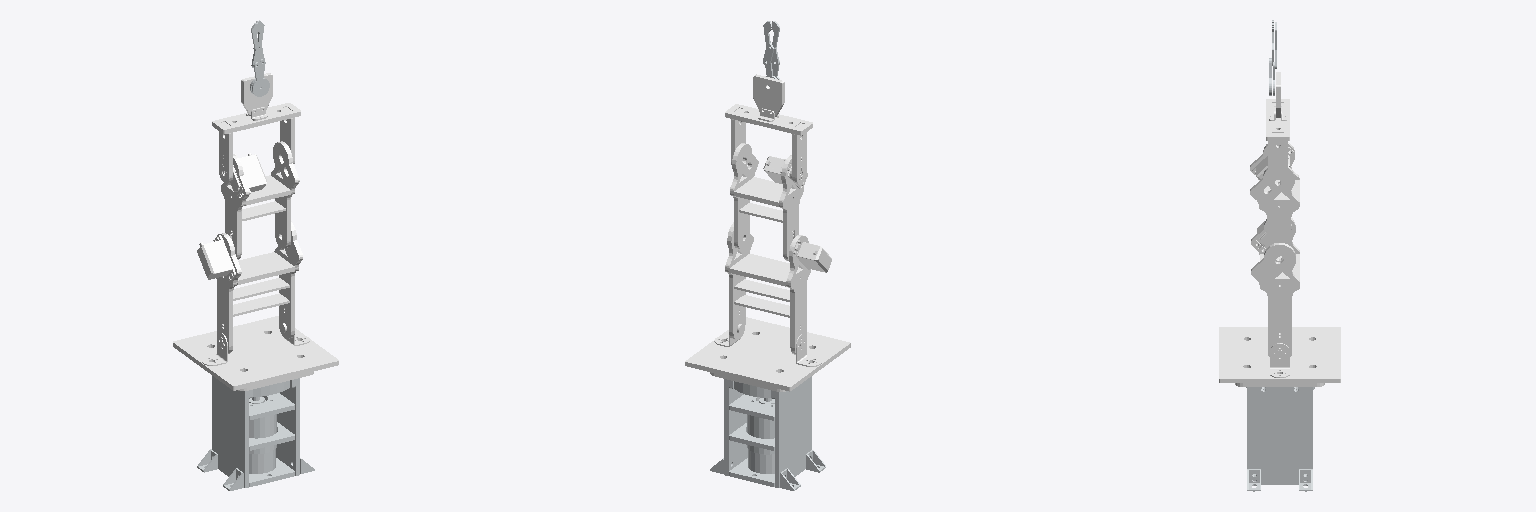
URDF robot description (robot_arm):
<?xml version="1.0" encoding="utf-8"?>
<!-- This URDF was automatically created by SolidWorks to URDF Exporter! Originally created by [author] ([email redacted]) 
     Commit Version: 1.5.1-0-g916b5db  Build Version: 1.5.7152.31018
     For more information, please see http://wiki.ros.org/sw_urdf_exporter -->
<robot
  name="robot_arm">
  <link name="world"/>
  <joint name="base_joint" type="fixed">
    <parent link="world"/>
    <child link="base_link"/>
    <origin rpy="0 0 0" xyz="0.0 0.0 0.0"/>
  </joint> 
  <link
    name="base_link">
    <inertial>
      <origin
        xyz="5.0209E-08 0.00012636 0.069544"
        rpy="0 0 0" />
      <mass
        value="1.3174" />
      <inertia
        ixx="0.0030694"
        ixy="-5.1941E-10"
        ixz="-4.6994E-09"
        iyy="0.0032541"
        iyz="-9.8315E-06"
        izz="0.001334" />
    </inertial>
    <visual>
      <origin
        xyz="0 0 0"
        rpy="0 0 0" />
      <geometry>
        <mesh
          filename="package://robot_arm/meshes/base_link.STL" />
      </geometry>
      <material
        name="">
        <color
          rgba="0.89804 0.91765 0.92941 1" />
      </material>
    </visual>
    <collision>
      <origin
        xyz="0 0 0"
        rpy="0 0 0" />
      <geometry>
        <mesh
          filename="package://robot_arm/meshes/base_link.STL" />
      </geometry>
      <surface>
        <contact>
          <ode>
            <min_depth>0.001</min_depth>
          </ode>
        </contact>
        <friction>
          <ode>
            <mu>10000</mu>
            <mu2>10000</mu2>
          </ode>
        </friction>
      </surface>
    </collision>
  </link>
  <link
    name="link1">
    <inertial>
      <origin
        xyz="-4.3764E-06 -6.9417E-14 0.018224"
        rpy="0 0 0" />
      <mass
        value="0.31325" />
      <inertia
        ixx="0.00048442"
        ixy="1.8327E-18"
        ixz="-1.378E-08"
        iyy="0.00049375"
        iyz="1.0078E-18"
        izz="0.00095151" />
    </inertial>
    <visual>
      <origin
        xyz="0 0 0"
        rpy="0 0 0" />
      <geometry>
        <mesh
          filename="package://robot_arm/meshes/link1.STL" />
      </geometry>
      <material
        name="">
        <color
          rgba="1 1 1 1" />
      </material>
    </visual>
    <collision>
      <origin
        xyz="0 0 0"
        rpy="0 0 0" />
      <geometry>
        <mesh
          filename="package://robot_arm/meshes/link1.STL" />
      </geometry>
      <surface>
        <contact>
          <ode>
            <min_depth>0.001</min_depth>
          </ode>
        </contact>
        <friction>
          <ode>
            <mu>10000</mu>
            <mu2>10000</mu2>
          </ode>
        </friction>
      </surface>
    </collision>
  </link>
  <joint
    name="joint_1"
    type="revolute">
    <origin
      xyz="0 0 0.134"
      rpy="0 0 0" />
    <parent
      link="base_link" />
    <child
      link="link1" />
    <axis
      xyz="0 0 1" />
    <limit
      lower="0"
      upper="3.14"
      effort="200"
      velocity="3" />
  </joint>
  <link
    name="link2">
    <inertial>
      <origin
        xyz="-0.0023684 0.082679 -0.012795"
        rpy="0 0 0" />
      <mass
        value="0.15073" />
      <inertia
        ixx="0.00047271"
        ixy="9.7164E-06"
        ixz="-9.0217E-06"
        iyy="0.0002799"
        iyz="6.7422E-05"
        izz="0.00023406" />
    </inertial>
    <visual>
      <origin
        xyz="0 0 0"
        rpy="0 0 0" />
      <geometry>
        <mesh
          filename="package://robot_arm/meshes/link2.STL" />
      </geometry>
      <material
        name="">
        <color
          rgba="1 1 1 1" />
      </material>
    </visual>
    <collision>
      <origin
        xyz="0 0 0"
        rpy="0 0 0" />
      <geometry>
        <mesh
          filename="package://robot_arm/meshes/link2.STL" />
      </geometry>
      <surface>
        <contact>
          <ode>
            <min_depth>0.001</min_depth>
          </ode>
        </contact>
        <friction>
          <ode>
            <mu>10000</mu>
            <mu2>10000</mu2>
          </ode>
        </friction>
      </surface>
    </collision>
  </link>
  <joint
    name="joint_2"
    type="revolute">
    <origin
      xyz="0 0 0.0485"
      rpy="1.5708 0 1.5708" />
    <parent
      link="link1" />
    <child
      link="link2" />
    <axis
      xyz="0 0 -1" />
    <limit
      lower="-1.57"
      upper="1.57"
      effort="200"
      velocity="3" />
  </joint>
  <link
    name="link3">
    <inertial>
      <origin
        xyz="0.071288 0.0027817 -0.0024319"
        rpy="0 0 0" />
      <mass
        value="0.12674" />
      <inertia
        ixx="0.00012046"
        ixy="-6.9257E-06"
        ixz="1.879E-05"
        iyy="0.00023578"
        iyz="2.8516E-06"
        izz="0.00015143" />
    </inertial>
    <visual>
      <origin
        xyz="0 0 0"
        rpy="0 0 0" />
      <geometry>
        <mesh
          filename="package://robot_arm/meshes/link3.STL" />
      </geometry>
      <material
        name="">
        <color
          rgba="1 1 1 1" />
      </material>
    </visual>
    <collision>
      <origin
        xyz="0 0 0"
        rpy="0 0 0" />
      <geometry>
        <mesh
          filename="package://robot_arm/meshes/link3.STL" />
      </geometry>
      <surface>
        <contact>
          <ode>
            <min_depth>0.001</min_depth>
          </ode>
        </contact>
        <friction>
          <ode>
            <mu>10000</mu>
            <mu2>10000</mu2>
          </ode>
        </friction>
      </surface>
    </collision>
  </link>
  <joint
    name="joint_3"
    type="revolute">
    <origin
      xyz="-0.0010291 0.12402 0"
      rpy="0 0 1.5708" />
    <parent
      link="link2" />
    <child
      link="link3" />
    <axis
      xyz="0 0 1" />
    <limit
      lower="-1.57"
      upper="1.57"
      effort="200"
      velocity="3" />
  </joint>
  <link
    name="link4">
    <inertial>
      <origin
        xyz="0.055765 -7.1787E-07 0.00030886"
        rpy="0 0 0" />
      <mass
        value="0.06016" />
      <inertia
        ixx="7.1743E-05"
        ixy="3.2607E-11"
        ixz="9.4983E-07"
        iyy="0.00012402"
        iyz="-2.0369E-09"
        izz="5.8439E-05" />
    </inertial>
    <visual>
      <origin
        xyz="0 0 0"
        rpy="0 0 0" />
      <geometry>
        <mesh
          filename="package://robot_arm/meshes/link4.STL" />
      </geometry>
      <material
        name="">
        <color
          rgba="1 1 1 1" />
      </material>
    </visual>
    <collision>
      <origin
        xyz="0 0 0"
        rpy="0 0 0" />
      <geometry>
        <mesh
          filename="package://robot_arm/meshes/link4.STL" />
      </geometry>
      <surface>
        <contact>
          <ode>
            <min_depth>0.001</min_depth>
          </ode>
        </contact>
        <friction>
          <ode>
            <mu>10000</mu>
            <mu2>10000</mu2>
          </ode>
        </friction>
      </surface>
    </collision>
  </link>
  <joint
    name="joint_4"
    type="revolute">
    <origin
      xyz="0.10496 0.0011351 0"
      rpy="0 0 0" />
    <parent
      link="link3" />
    <child
      link="link4" />
    <axis
      xyz="0 0 1" />
    <limit
      lower="-1.57"
      upper="1.57"
      effort="200"
      velocity="3" />
  </joint>
  <link
    name="gripper_right">
    <inertial>
      <origin
        xyz="-0.0031855 -0.0022845 -0.027357"
        rpy="0 0 0" />
      <mass
        value="0.0089859" />
      <inertia
        ixx="2.1201E-06"
        ixy="-2.5369E-15"
        ixz="1.593E-15"
        iyy="1.9257E-06"
        iyz="-1.6346E-07"
        izz="2.0794E-07" />
    </inertial>
    <visual>
      <origin
        xyz="0 0 0"
        rpy="0 0 0" />
      <geometry>
        <mesh
          filename="package://robot_arm/meshes/gripper_right.STL" />
      </geometry>
      <material
        name="">
        <color
          rgba="0.89804 0.91765 0.92941 1" />
      </material>
    </visual>
    <collision>
      <origin
        xyz="0 0 0"
        rpy="0 0 0" />
      <geometry>
        <mesh
          filename="package://robot_arm/meshes/gripper_right.STL" />
      </geometry>
      <surface>
        <contact>
          <ode>
            <min_depth>0.001</min_depth>
          </ode>
        </contact>
        <friction>
          <ode>
            <mu>10000</mu>
            <mu2>10000</mu2>
          </ode>
        </friction>
      </surface>
    </collision>
  </link>
  <joint
    name="joint_5"
    type="revolute">
    <origin
      xyz="0.10888 0.001 -4.85E-05"
      rpy="1.7122 0 -1.5708" />
    <parent
      link="link4" />
    <child
      link="gripper_right" />
    <axis
      xyz="1 0 0" />
    <limit
      lower="0"
      upper="1.57"
      effort="200"
      velocity="3" />
  </joint>
  <link
    name="gripper_left">
    <inertial>
      <origin
        xyz="0.0031855 0.007424 -0.02643"
        rpy="0 0 0" />
      <mass
        value="0.0089859" />
      <inertia
        ixx="2.1201E-06"
        ixy="3.4201E-21"
        ixz="-2.4552E-21"
        iyy="1.8228E-06"
        iyz="4.3913E-07"
        izz="3.1081E-07" />
    </inertial>
    <visual>
      <origin
        xyz="0 0 0"
        rpy="0 0 0" />
      <geometry>
        <mesh
          filename="package://robot_arm/meshes/gripper_left.STL" />
      </geometry>
      <material
        name="">
        <color
          rgba="0.89804 0.91765 0.92941 1" />
      </material>
    </visual>
    <collision>
      <origin
        xyz="0 0 0"
        rpy="0 0 0" />
      <geometry>
        <mesh
          filename="package://robot_arm/meshes/gripper_left.STL" />
      </geometry>
      <surface>
        <contact>
          <ode>
            <min_depth>0.001</min_depth>
          </ode>
        </contact>
        <friction>
          <ode>
            <mu>10000</mu>
            <mu2>10000</mu2>
          </ode>
        </friction>
      </surface>
    </collision>
  </link>
  <joint
    name="joint_6"
    type="revolute">
    <origin
      xyz="0.10888 0.005 -4.85E-05"
      rpy="-1.7494 0 1.5708" />
    <parent
      link="link4" />
    <child
      link="gripper_left" />
    <axis
      xyz="-1 0 0" />
    <limit
      lower="-1.57"
      upper="0"
      effort="200"
      velocity="3" />
  </joint>

  <transmission name="link_1_trans">
    <type>transmission_interface/SimpleTransmission</type>
    <joint name="joint_1">
      <hardwareInterface>hardware_interface/PositionJointInterface</hardwareInterface>  
    </joint>
    <actuator name="link_1_motor">
      <hardwareInterface>hardware_interface/PositionJointInterface</hardwareInterface>
      <mechanicalReduction>1</mechanicalReduction>
    </actuator>
  </transmission>

  <transmission name="link_2_trans">
    <type>transmission_interface/SimpleTransmission</type>
    <joint name="joint_2">
      <hardwareInterface>hardware_interface/PositionJointInterface</hardwareInterface>  
    </joint>
    <actuator name="link_2_motor">
      <hardwareInterface>hardware_interface/PositionJointInterface</hardwareInterface>
      <mechanicalReduction>1</mechanicalReduction>
    </actuator>
  </transmission>

  <transmission name="link_3_trans">
    <type>transmission_interface/SimpleTransmission</type>
    <joint name="joint_3">
      <hardwareInterface>hardware_interface/PositionJointInterface</hardwareInterface>  
    </joint>
    <actuator name="link_3_motor">
      <hardwareInterface>hardware_interface/PositionJointInterface</hardwareInterface>
      <mechanicalReduction>1</mechanicalReduction>
    </actuator>
  </transmission>
  
  <transmission name="link_4_trans">
    <type>transmission_interface/SimpleTransmission</type>
    <joint name="joint_4">
      <hardwareInterface>hardware_interface/PositionJointInterface</hardwareInterface>  
    </joint>
    <actuator name="link_4_motor">
      <hardwareInterface>hardware_interface/PositionJointInterface</hardwareInterface>
      <mechanicalReduction>1</mechanicalReduction>
    </actuator>
  </transmission>

  <transmission name="gripper_right_trans">
    <type>transmission_interface/SimpleTransmission</type>
    <joint name="joint_5">
      <hardwareInterface>hardware_interface/PositionJointInterface</hardwareInterface>  
    </joint>
    <actuator name="gripper_right_motor">
      <hardwareInterface>hardware_interface/PositionJointInterface</hardwareInterface>
      <mechanicalReduction>1</mechanicalReduction>
    </actuator>
  </transmission>


  <transmission name="gripper_left_trans">
    <type>transmission_interface/SimpleTransmission</type>
    <joint name="joint_6">
      <hardwareInterface>hardware_interface/PositionJointInterface</hardwareInterface>  
    </joint>
    <actuator name="gripper_left_motor">
      <hardwareInterface>hardware_interface/PositionJointInterface</hardwareInterface>
      <mechanicalReduction>1</mechanicalReduction>
    </actuator>
  </transmission>

  <gazebo>
    <plugin name="control" 
    filename="libgazebo_ros_control.so">
    <robotNamespace>/</robotNamespace>
    </plugin>
  </gazebo>

  <gazebo reference="link1">
    <selfCollide>true</selfCollide>
  </gazebo>

  <gazebo reference="link2">
    <selfCollide>true</selfCollide>
  </gazebo>

  <gazebo reference="link3">
    <selfCollide>true</selfCollide>
  </gazebo>

  <gazebo reference="link4">
    <selfCollide>true</selfCollide>
  </gazebo>

  <gazebo reference="gripper_right">
    <selfCollide>true</selfCollide>
  </gazebo>

  <gazebo reference="gripper_left">
    <selfCollide>true</selfCollide>
  </gazebo>

</robot>

--- What the picture shows (computed from the rendered views, not written in the file) ---
3 views of the same robot in one strip: view 1: azimuth 30°, elevation 25°; view 2: azimuth 150°, elevation 25°; view 3: azimuth 270°, elevation 25° (orthographic).
Model robot_arm with 8 links and 7 joints (6 revolute, 1 fixed), rooted at world, posed all joints at 0.
Visible links, largest first — view 1: base_link, link1, link2, link3, link4, gripper_left; view 2: base_link, link1, link2, link3, link4; view 3: link1, base_link, link2, link3, link4.
Link boxes in pixels (x1,y1,x2,y2): base_link: (197,376,314,490); link1: (173,316,338,390); link2: (197,221,302,353); link3: (221,141,299,259); link4: (212,73,300,182); gripper_left: (251,22,269,96); base_link: (710,376,825,490); link1: (685,317,850,391); link2: (725,222,831,354); link3: (730,143,807,260); link4: (725,74,812,183); link1: (1219,327,1340,386); base_link: (1246,387,1314,491); link2: (1251,218,1299,357); link3: (1250,142,1299,261); link4: (1266,72,1289,191).
Bounding box of the posed robot: 0.1521 × 0.15 × 0.6068 m (x, y, z).
7 mesh visuals loaded from 7 distinct referenced files (7 binary STL).